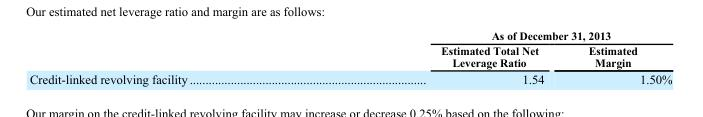table: (28, 28, 671, 85)
table column: (28, 28, 313, 85), (313, 28, 565, 85), (565, 28, 671, 85)
table column header: (28, 28, 671, 69)
table row: (28, 42, 671, 69), (28, 69, 671, 85), (28, 28, 671, 42)
table spanning cell: (313, 28, 671, 42)
